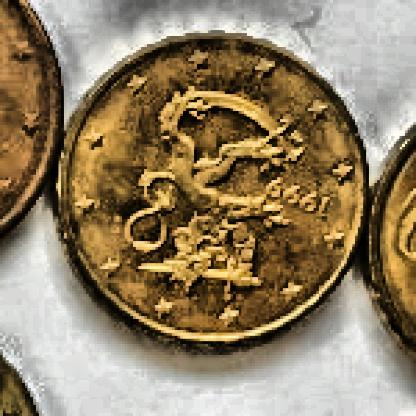coin: (58, 37, 374, 352)
